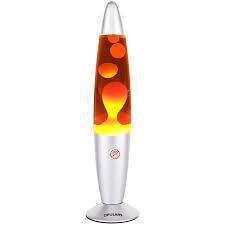Lamp: (83, 1, 141, 224)
